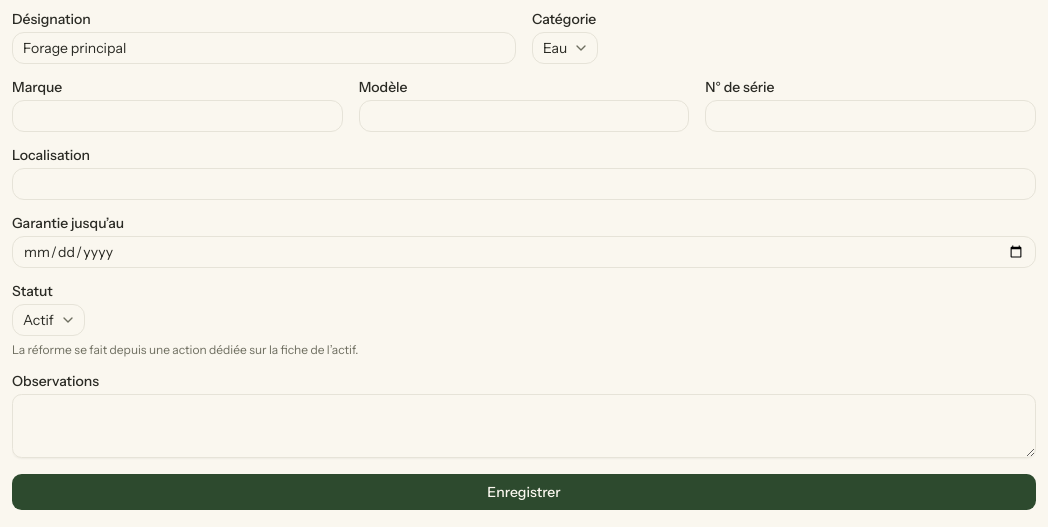
Test: AssetForm (édition) › ne propose jamais « Réformé » comme option du statut
Click the dropdown named "Statut". click: (48, 320)
box: [12,304,85,336]
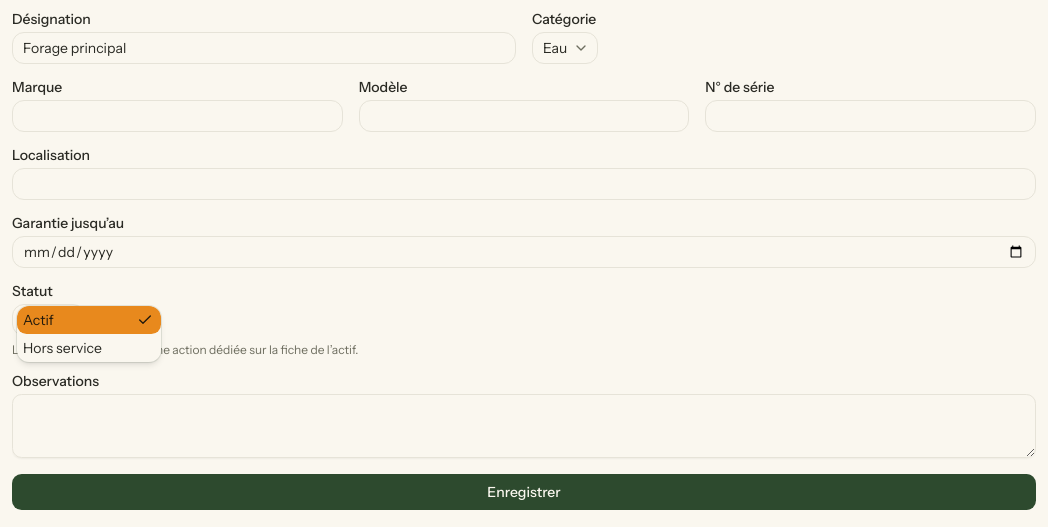
Expected: the option "Actif" is shown, [17,306,161,334]
Expected: the option "Hors service" is shown, [23,339,102,357]
